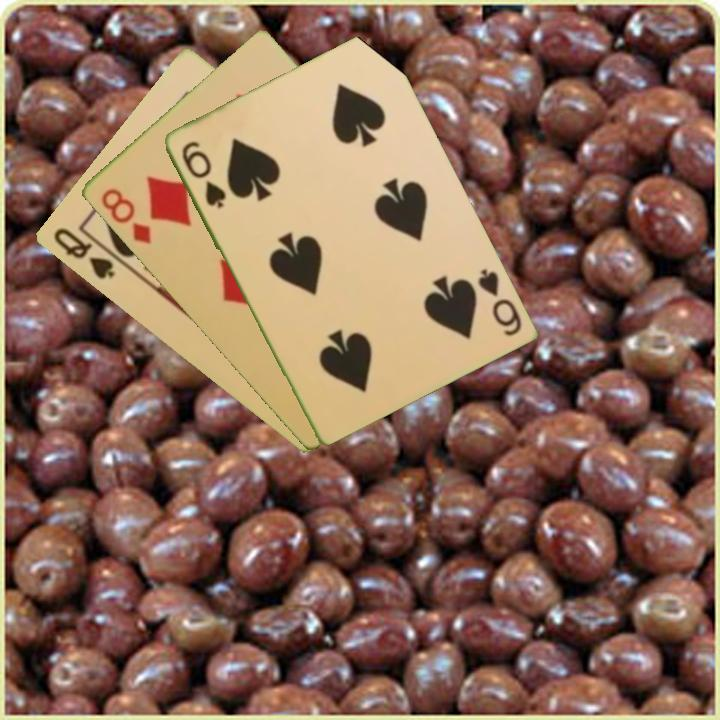6s: (177, 137, 229, 211), (473, 264, 524, 339)
8d: (97, 185, 154, 248)
Qs: (49, 224, 118, 283)
